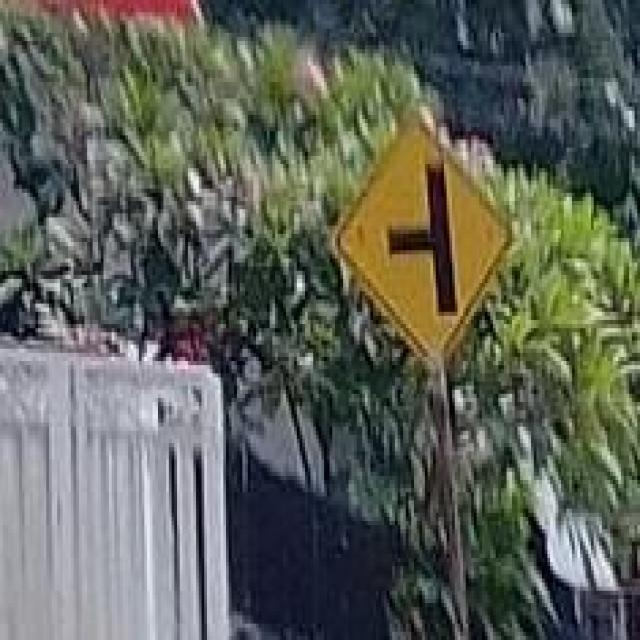traffic sign: (346, 123, 510, 369)
